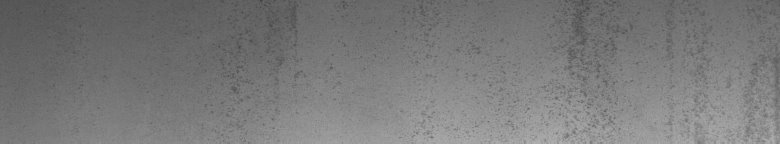ib: (506, 7, 641, 136)
